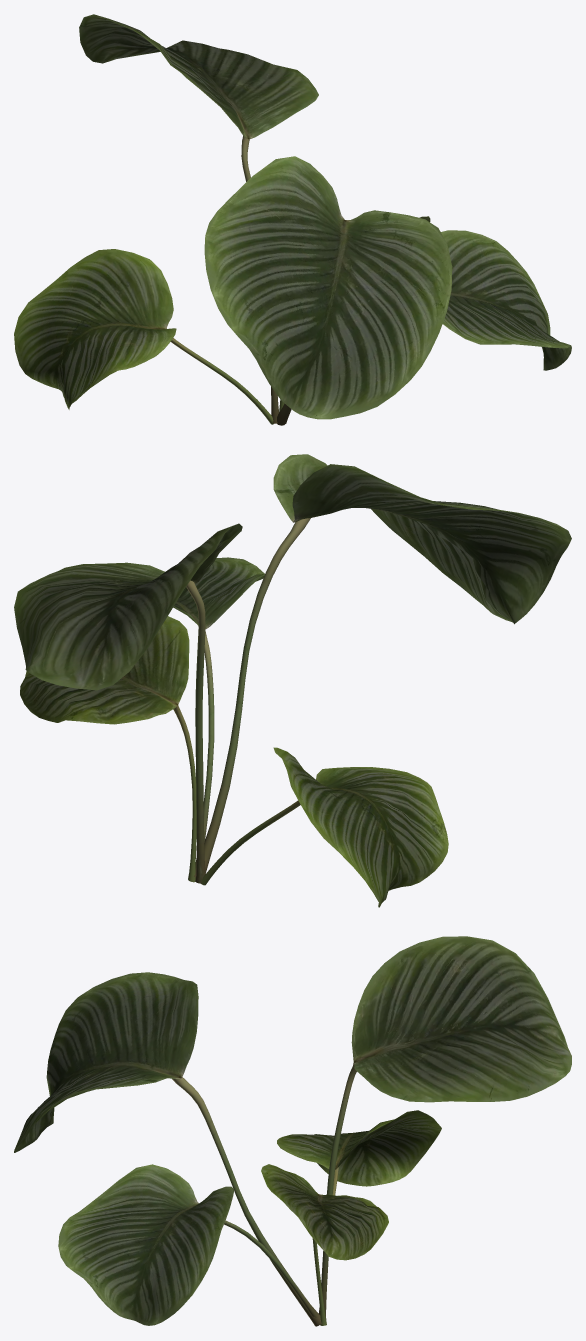
File: calathea_orbifolia_01.glb
3 views of the same model, one above another, from view 1: azimuth 30°, elevation 25°; view 2: azimuth 150°, elevation 25°; view 3: azimuth 270°, elevation 25° (orthographic). The views are drawn at different scales.
Visible parts, largest first — view 1: calathea_orbifolia_01_b; view 2: calathea_orbifolia_01_b; view 3: calathea_orbifolia_01_b.
Part boxes in pixels (x1,y1,x2,y2): calathea_orbifolia_01_b: [14, 14, 571, 425]; calathea_orbifolia_01_b: [14, 454, 571, 907]; calathea_orbifolia_01_b: [14, 936, 571, 1326].
Bounding box in the file's own units: 0.3474 × 0.3032 × 0.4403.
1 material, 1 textured.
